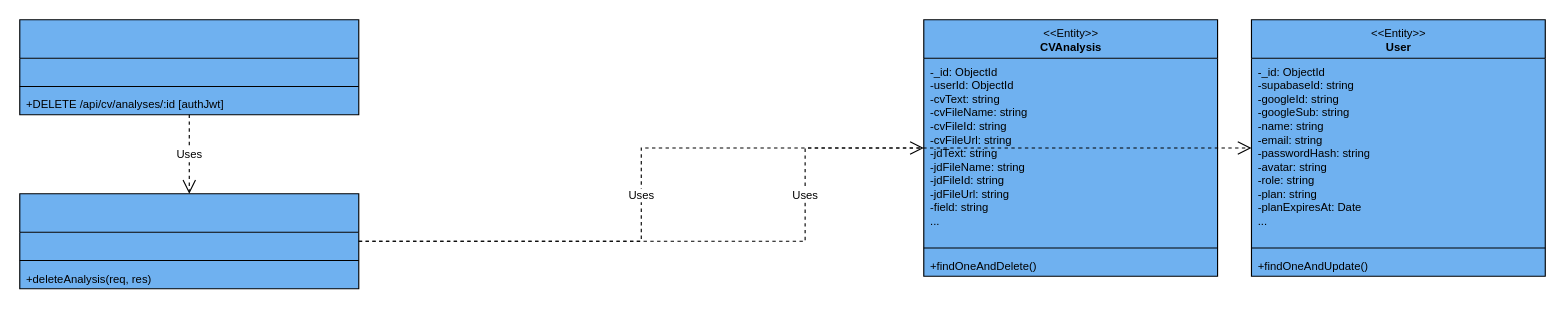
This 1565x312 diagram has some shape labels left out. The box of each missing label's shape, as (x1, y1, x2, y2) in pixels:
<<Controller>> CVController: (19, 193, 359, 289)
<<Router>> cvRouter: (19, 19, 359, 115)
